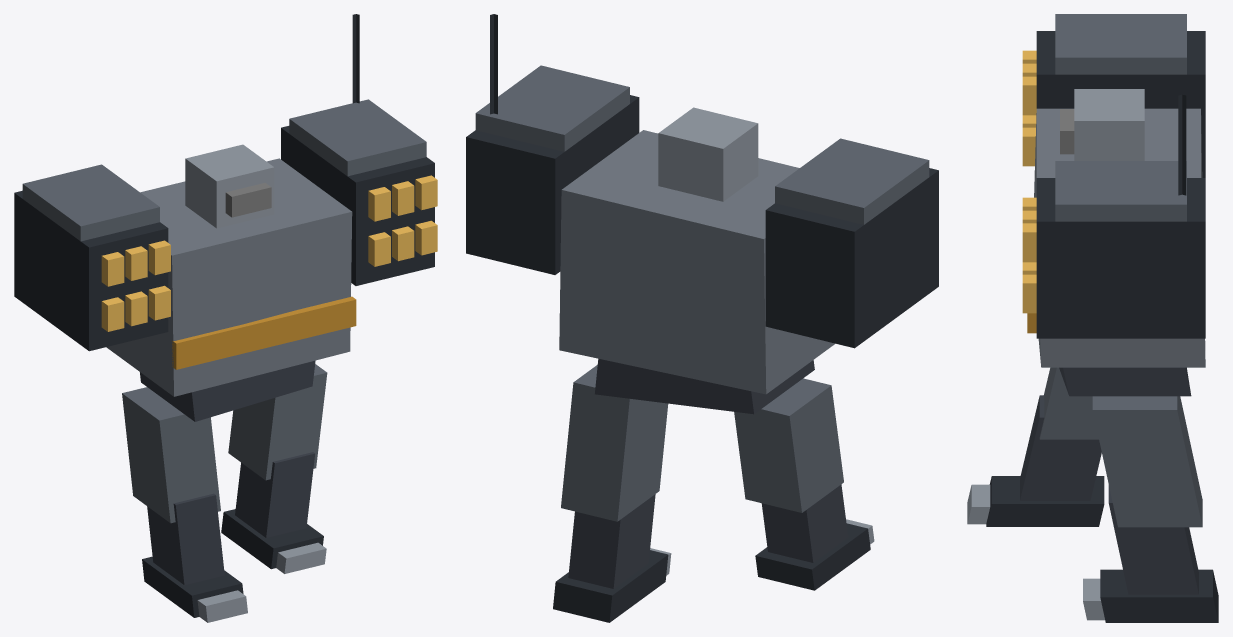
Rendered from javelin-walk-7.obj.
3 views of the same model, side by side, from view 1: azimuth 30°, elevation 25°; view 2: azimuth 150°, elevation 25°; view 3: azimuth 270°, elevation 25° (orthographic). The views are drawn at different scales.
Parts seen in each view (by area): view 1: javelin-walk-7; view 2: javelin-walk-7; view 3: javelin-walk-7.
Part boxes in pixels (x1,y1,x2,y2): javelin-walk-7: (14,14,437,622); javelin-walk-7: (466,14,938,622); javelin-walk-7: (967,14,1218,622).
Bounding box in the file's own units: 1.92 × 2.65 × 1.07.
